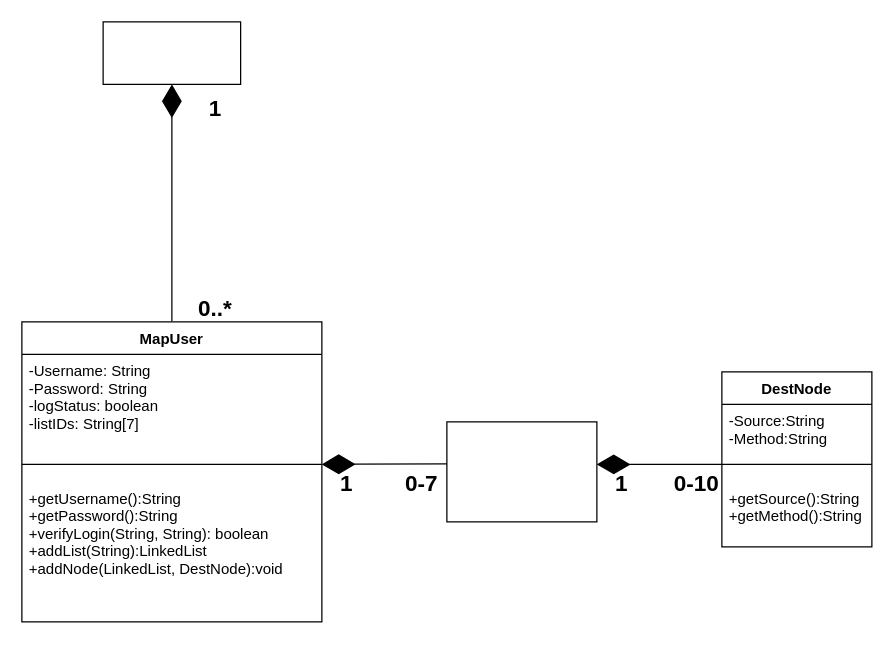
The diagram is 894 pixels wide and 648 high, and some of its shapes have lost their labels. The shapes that lost their labels are listed below. From the top down, each one's centre as x and y in pixels, then its label:
At point (171, 52): "«interface» Database".
At point (521, 471): "LinkedList".
